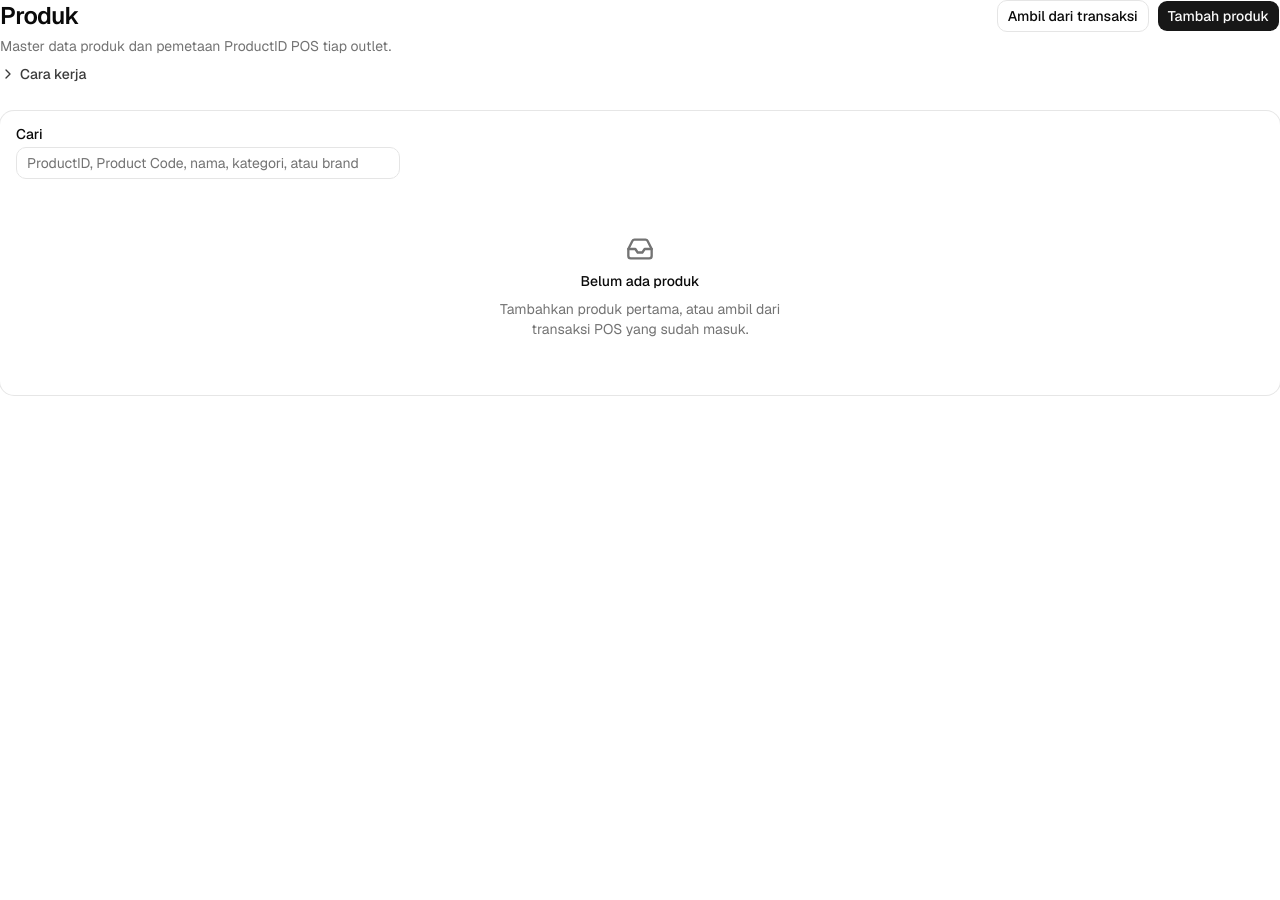
Test: ProductImportDialog › pilih semua hanya memilih yang bisa diimpor, lalu mengirimnya
Click the button "Ambil dari transaksi" at (1073,16), box top-left (997, 0), bottom-right (1149, 32)
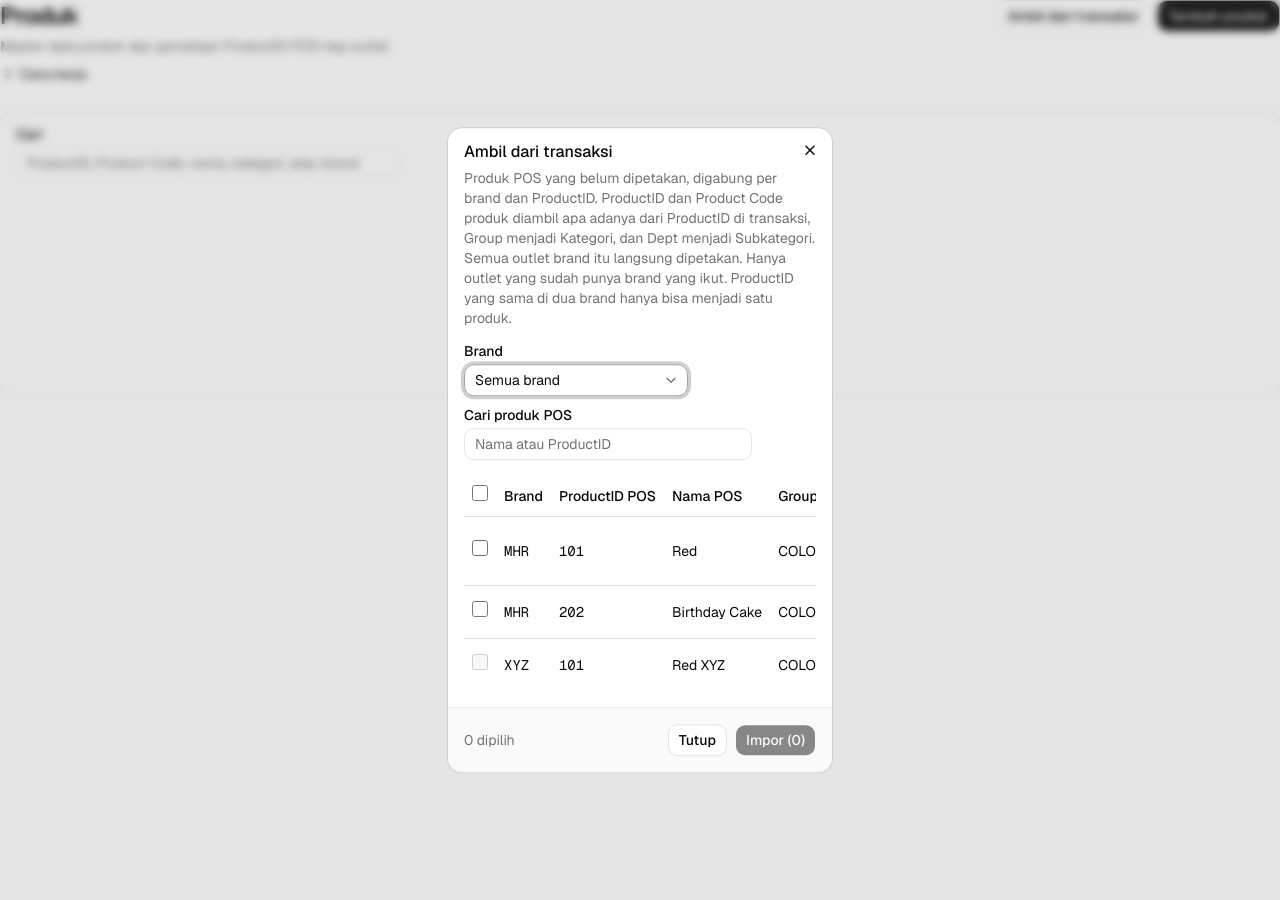
Result: the text "Birthday Cake" is shown at top-left (664, 585), bottom-right (770, 638)
Click the checkbox named "Pilih semua yang bisa diimpor" at (480,494), box top-left (472, 486), bottom-right (488, 502)
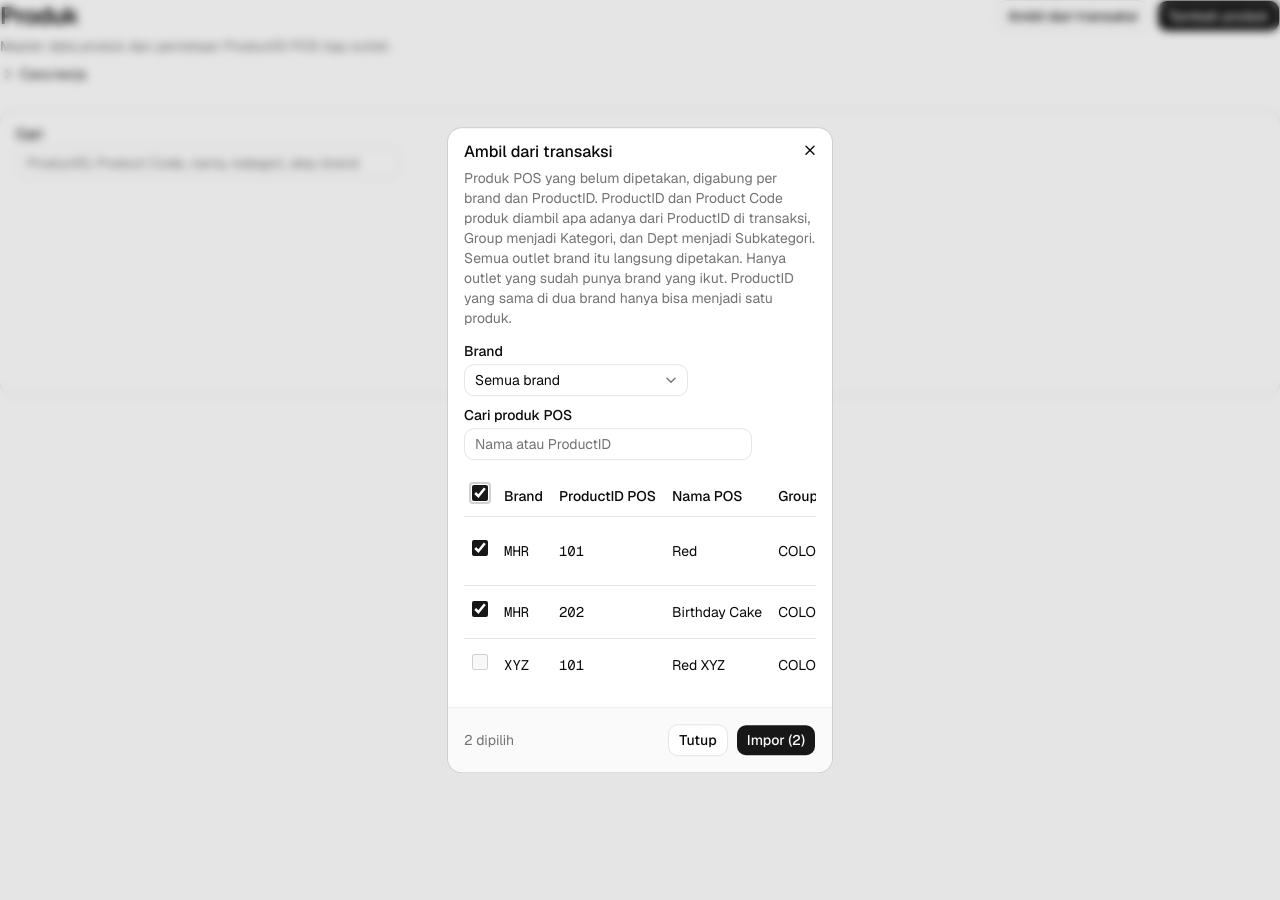
Result: the text "2 dipilih" is shown at top-left (464, 730), bottom-right (514, 750)
Click the button "Impor (2)" at (776,740), box top-left (736, 724), bottom-right (816, 756)
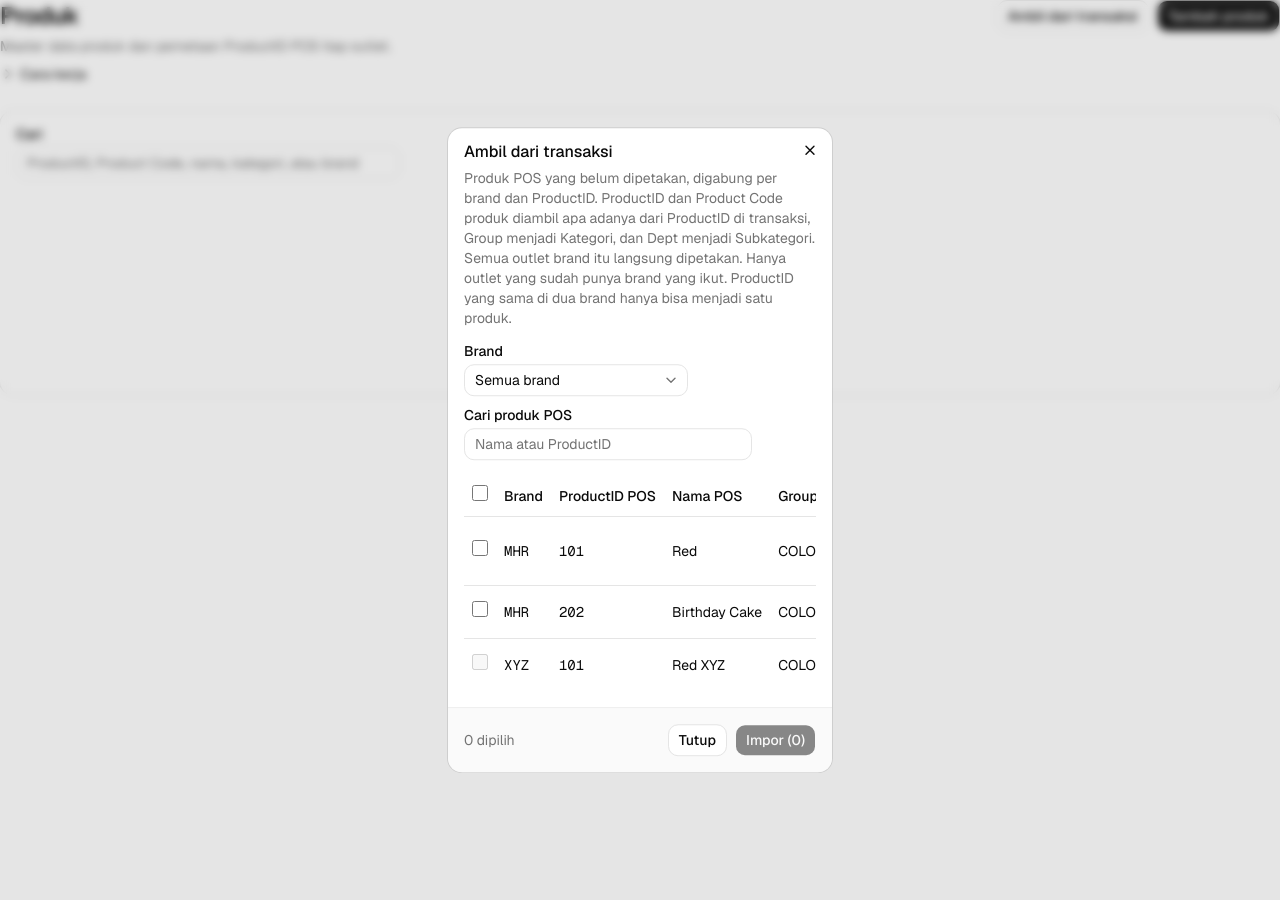
Result: the text "0 dipilih" is shown at top-left (464, 730), bottom-right (515, 750)
